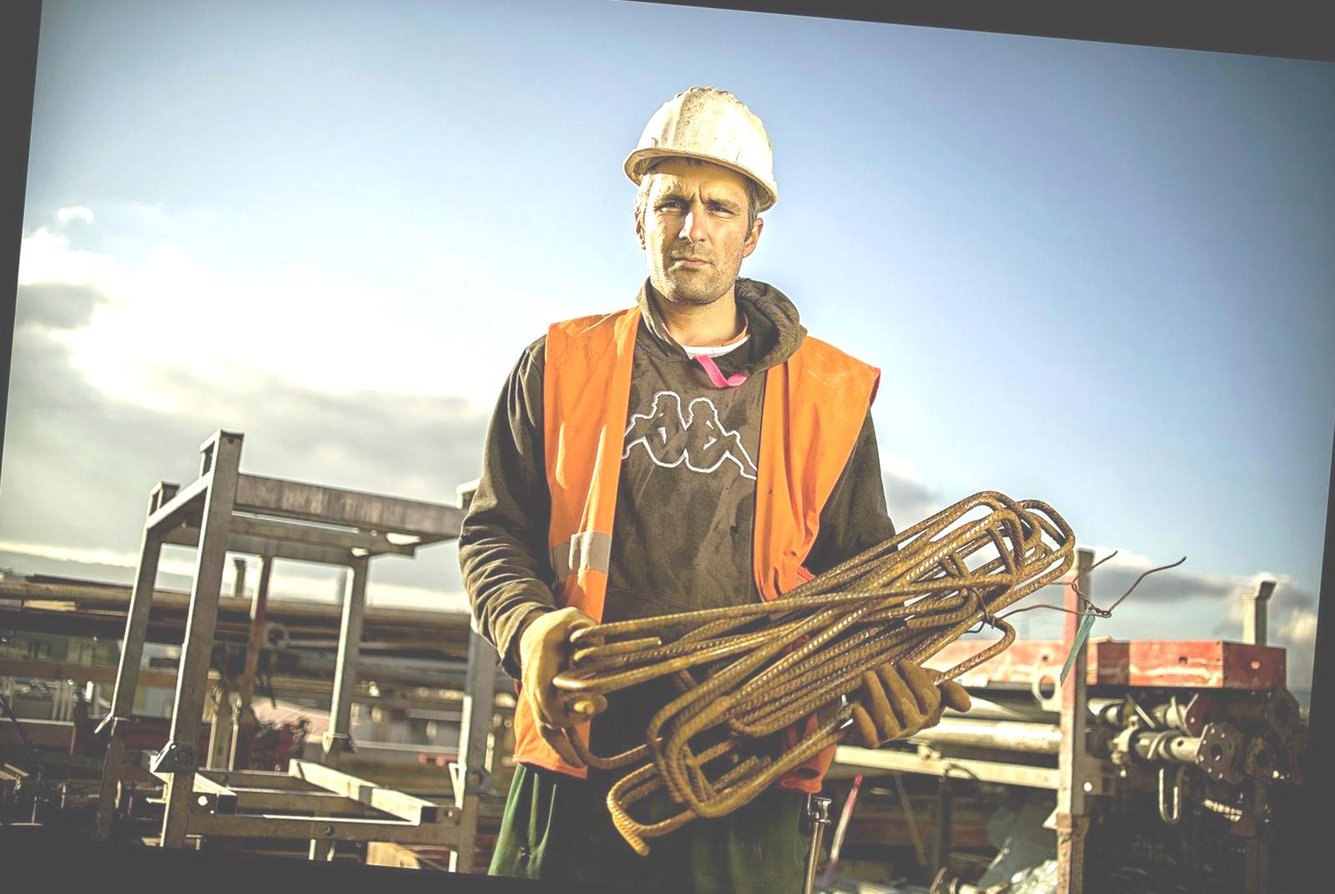helmet: (626, 78, 784, 183)
person: (435, 58, 952, 894)
